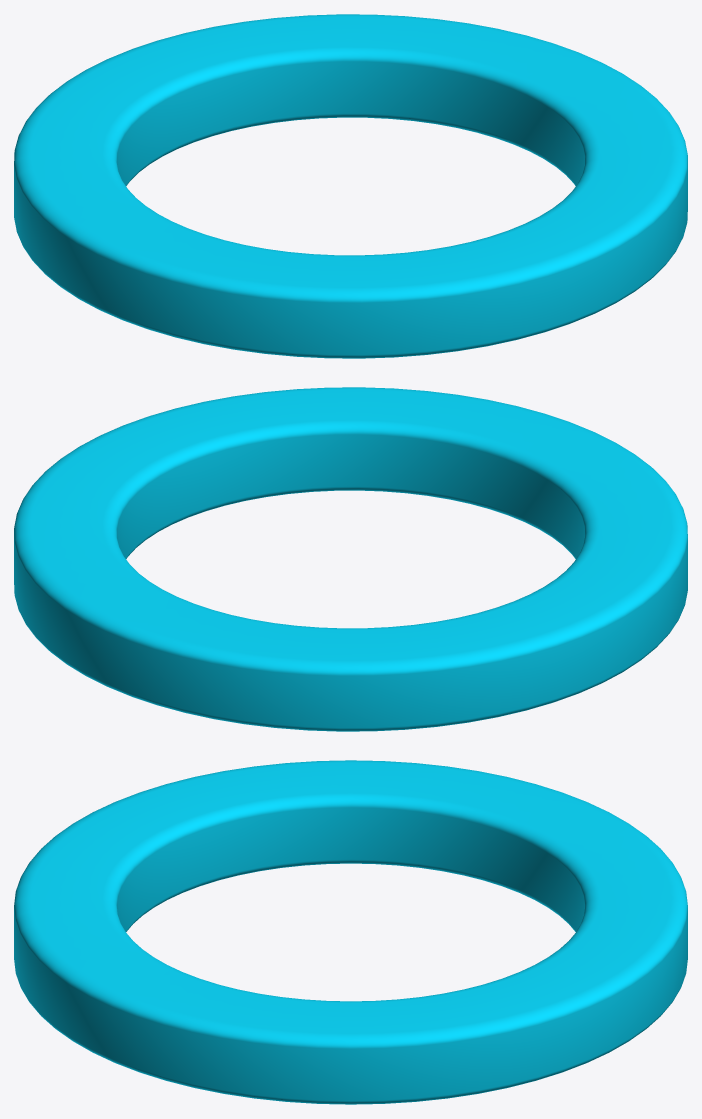
3 views of the same model, one above another, from view 1: azimuth 30°, elevation 25°; view 2: azimuth 150°, elevation 25°; view 3: azimuth 270°, elevation 25° (orthographic).
Parts seen in each view (by area): view 1: SM_0; view 2: SM_0; view 3: SM_0.
Part boxes in pixels (bbox=[...]): SM_0: bbox=[14, 14, 687, 358]; SM_0: bbox=[14, 387, 687, 731]; SM_0: bbox=[14, 760, 687, 1104].
Size of the model in its own units: 80 by 8.96 by 80.
